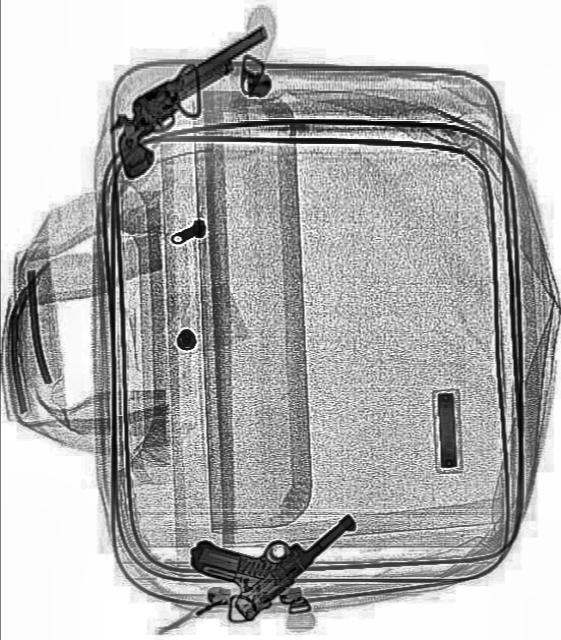Gun: (94, 20, 296, 182), (180, 452, 358, 632)
